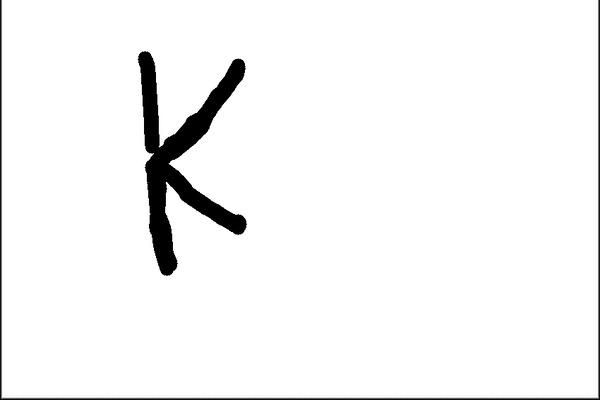K: (128, 40, 257, 281)
